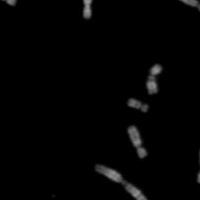chromosome: (94, 161, 147, 200), (126, 125, 147, 158), (166, 0, 200, 20), (146, 64, 162, 94), (127, 97, 149, 114), (80, 0, 93, 19), (197, 146, 200, 183), (0, 0, 16, 6)
